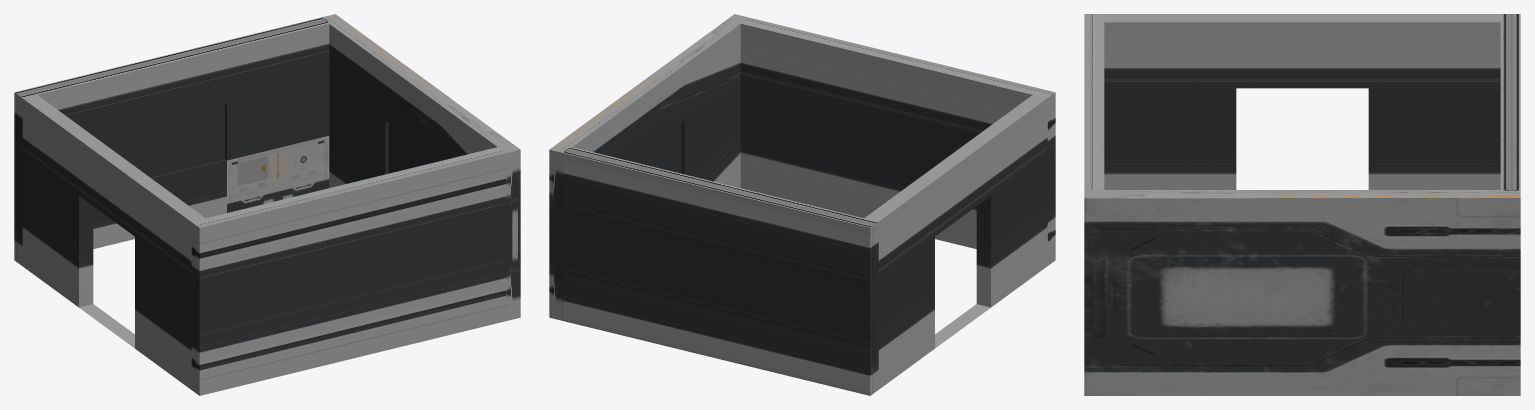
File: world4.obj
3 renders of one model, left to right at view 1: azimuth 30°, elevation 25°; view 2: azimuth 150°, elevation 25°; view 3: azimuth 270°, elevation 25°, orthographic. The views are drawn at different scales.
Visible parts, largest first — view 1: walls; view 2: walls; view 3: walls.
Part boxes in pixels (left/top/right/bottom): walls: left=14, top=14, right=520, bottom=395; walls: left=549, top=14, right=1055, bottom=395; walls: left=1084, top=14, right=1520, bottom=395.
Size of the model in its own units: 22 by 11 by 22.
